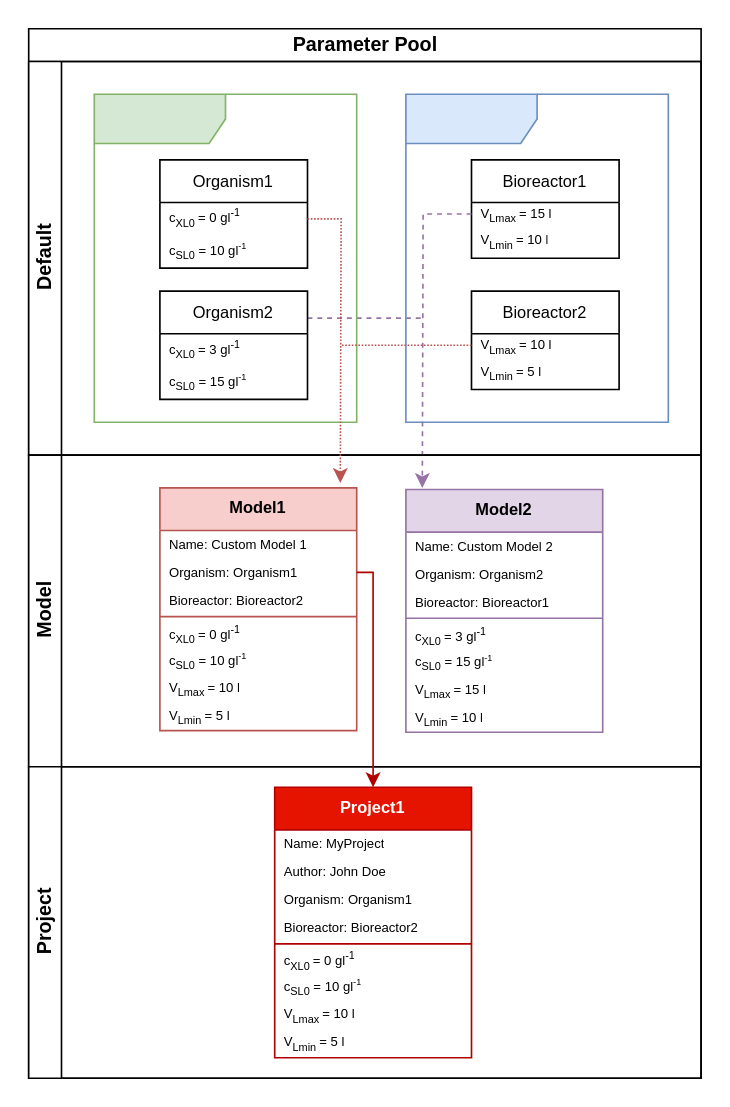
Image size: 730x1107. Some labels were removed from this diagram. The centre of each missing label's shape, as x and y in pixels:
Bioreactors: pixel 536 257
Organisms: pixel 225 257
